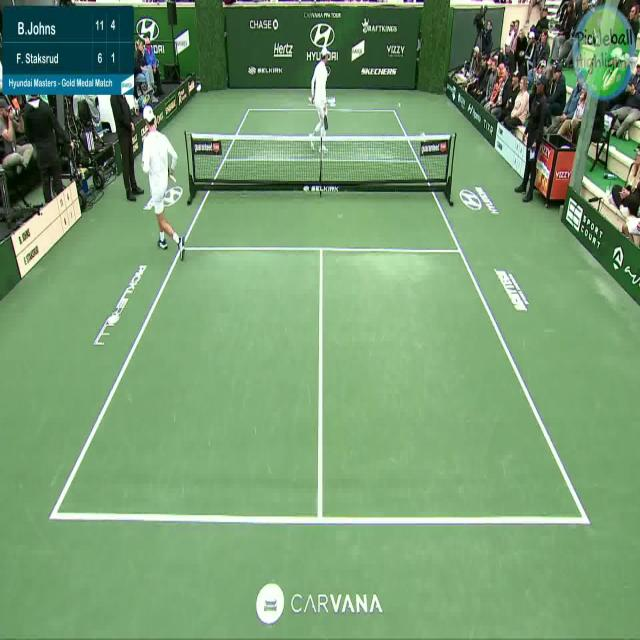ball: (395, 96, 404, 110)
